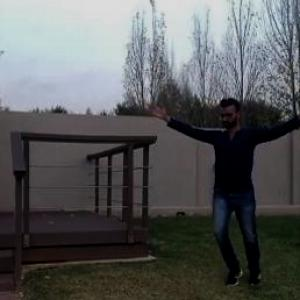takeoff: (138, 97, 300, 282)
